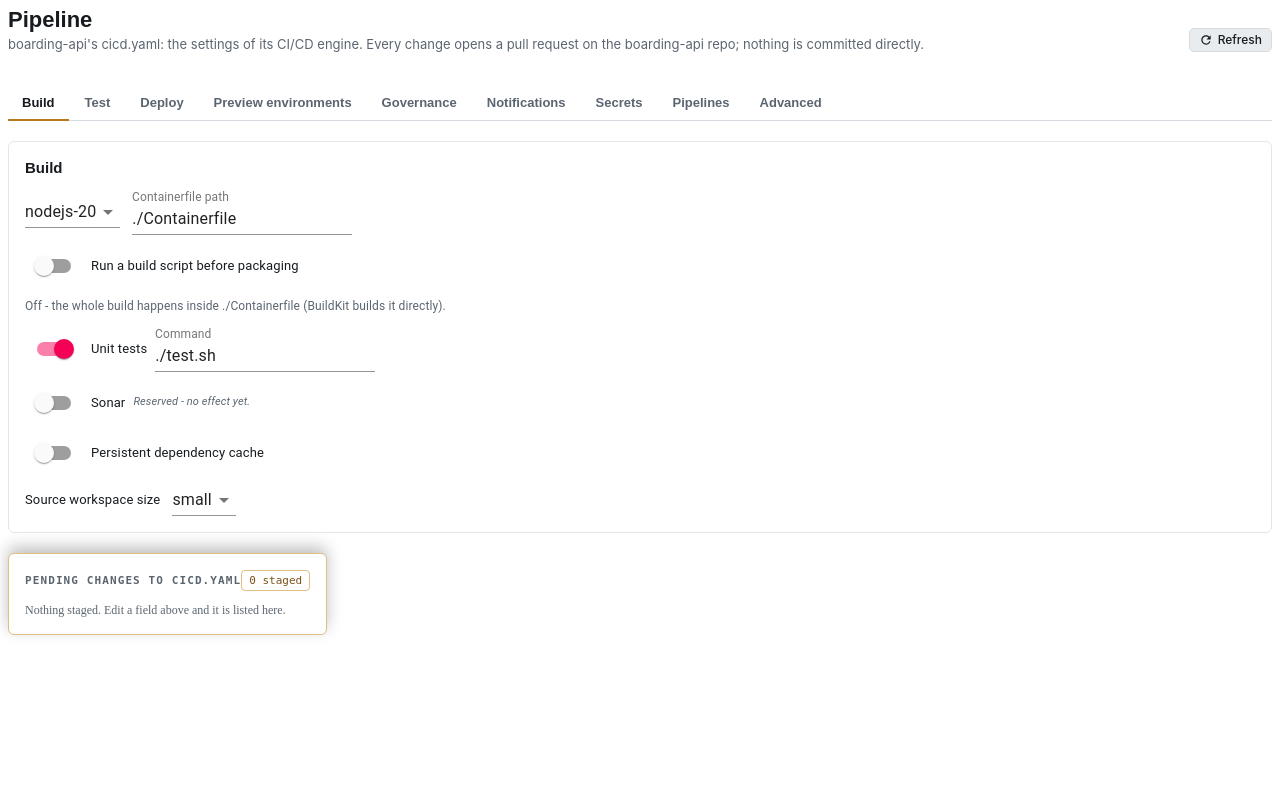
Test: Glidepath tab › has the settings in sub-tabs, one section each, and no Platform files section
Expected: the heading "Build" is shown, [25,159,62,176]
Click the tab "Governance" at (419, 104), box [368,86,471,121]
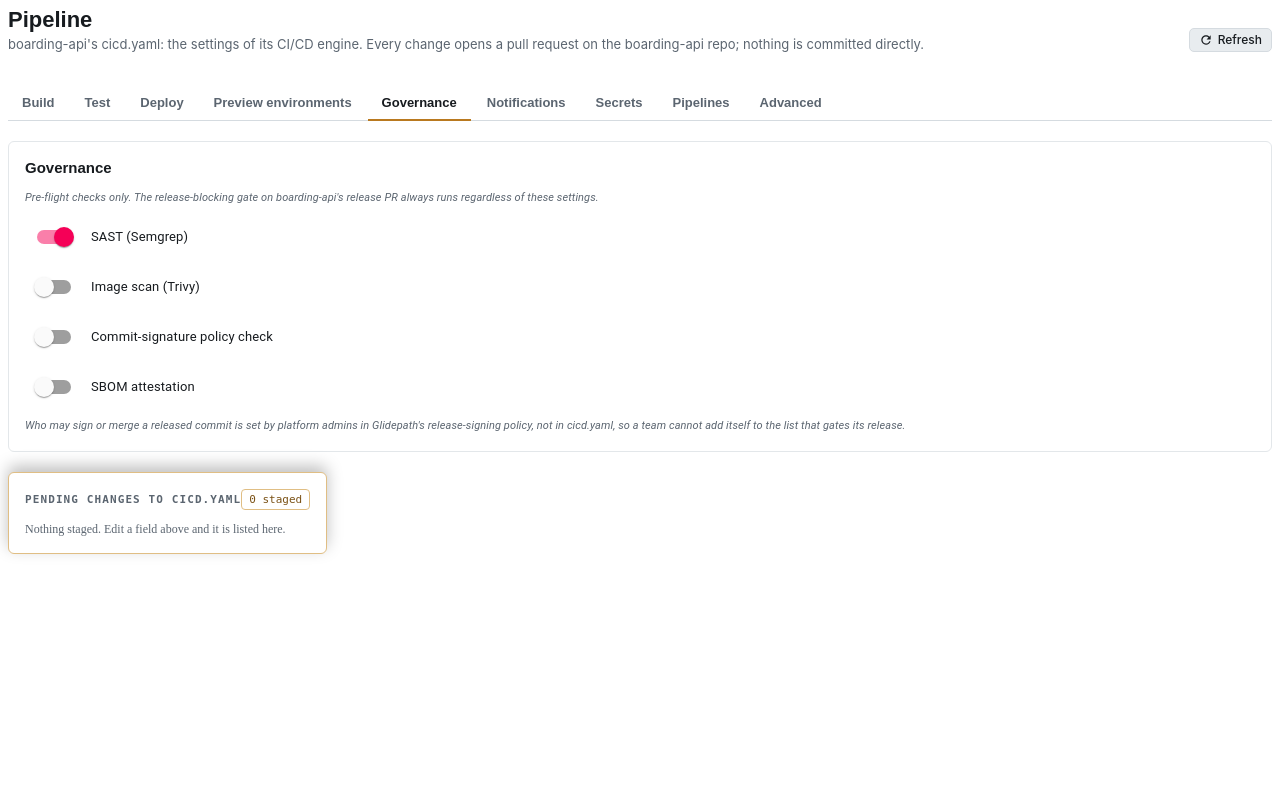
Now the heading "Governance" is shown, box [25,159,112,176]
